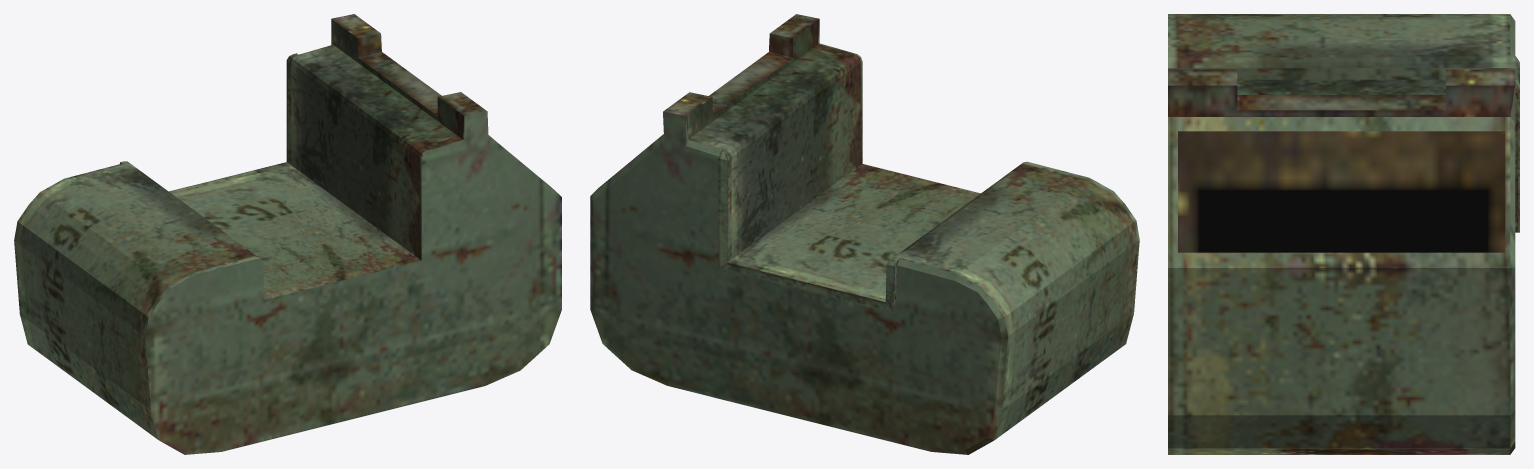
Rendered from mag.obj.
3 views of the same model, side by side, from view 1: azimuth 30°, elevation 25°; view 2: azimuth 150°, elevation 25°; view 3: azimuth 270°, elevation 25° (orthographic). The views are drawn at different scales.
Parts seen in each view (by area): view 1: wpn_dshk; view 2: wpn_dshk; view 3: wpn_dshk.
Part boxes in pixels (left/top/right/bottom): wpn_dshk: left=14, top=14, right=561, bottom=454; wpn_dshk: left=590, top=14, right=1139, bottom=454; wpn_dshk: left=1168, top=14, right=1519, bottom=454.
Size of the model in its own units: 0.1901 by 0.1206 by 0.1066.
1 material, 1 textured.
